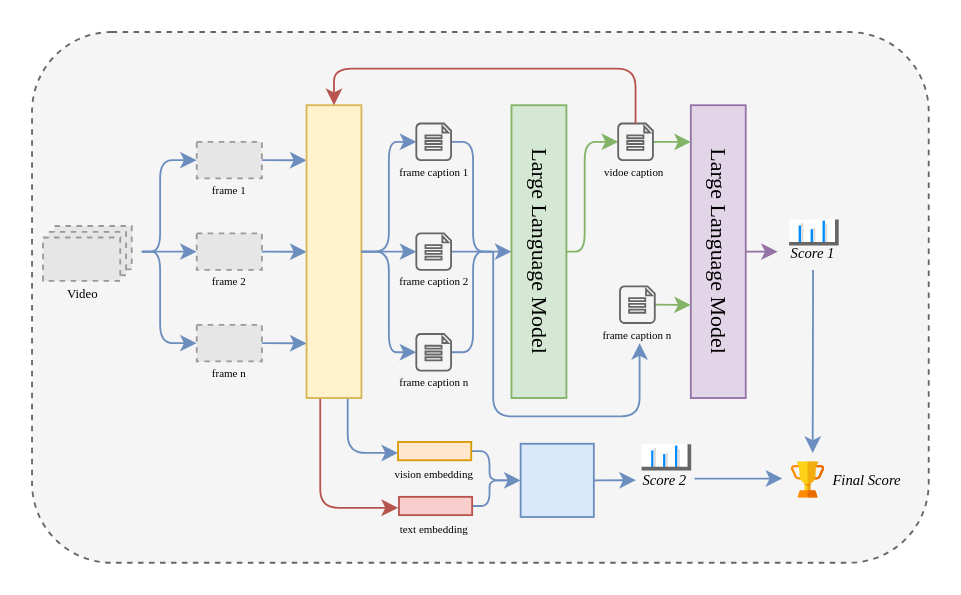
Image size: 961x595. Some labels were removed from this diagram. Grey dashed boxes stand in for pictures. The shapes that lost their labels are listed below. From the top down, each one's centre as x and y in pixels, then its label:
pixel 333 250: Vision Language Model
pixel 556 479: Sim Calc
